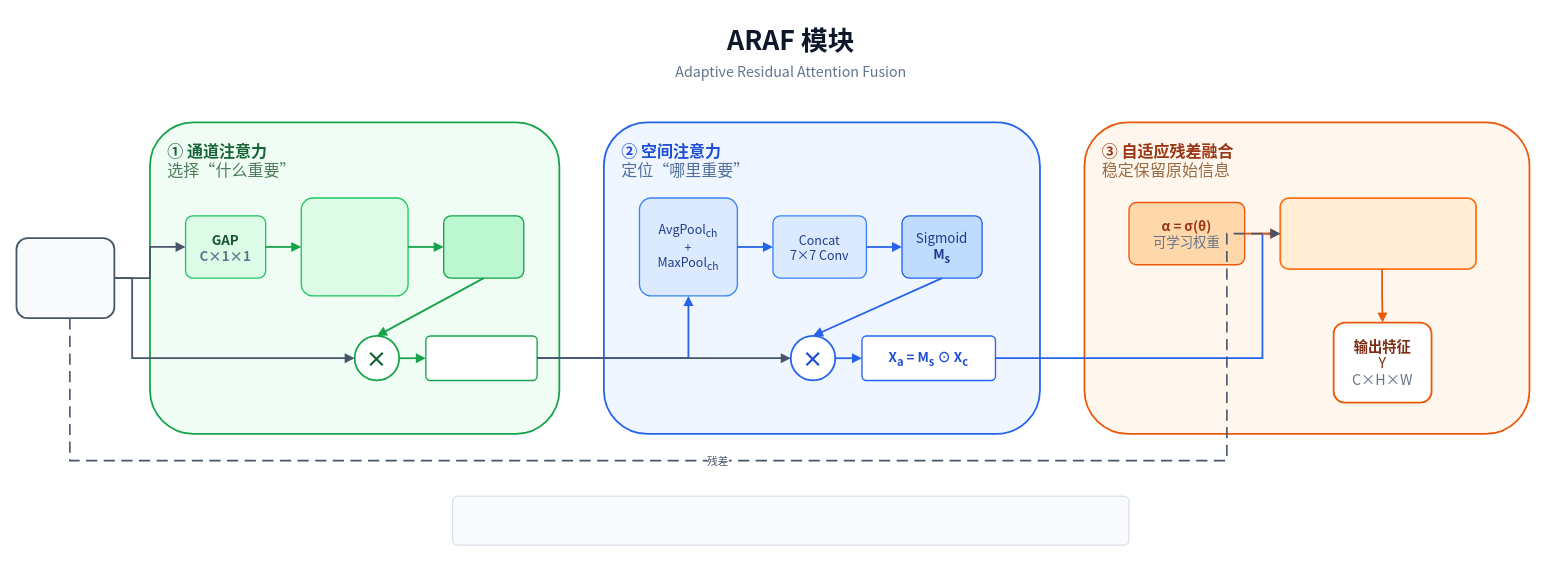
The diagram is 1545 pixels wide and 561 high, and some of its shapes have lost their labels. The centre of each missing label's shape, as x and y in pixels:
1×1 Conv ↓ δ(·) 1×1 Conv ↑: [354,246]
Sigmoid M c: [483,246]
X c = M c ⊙ X: [481,358]
Y = αX a + (1−α)X: [1378,233]
输入特征 X C×H×W: [65,278]
通道重标定 → 空间重标定 → 残差门控: [790,520]
